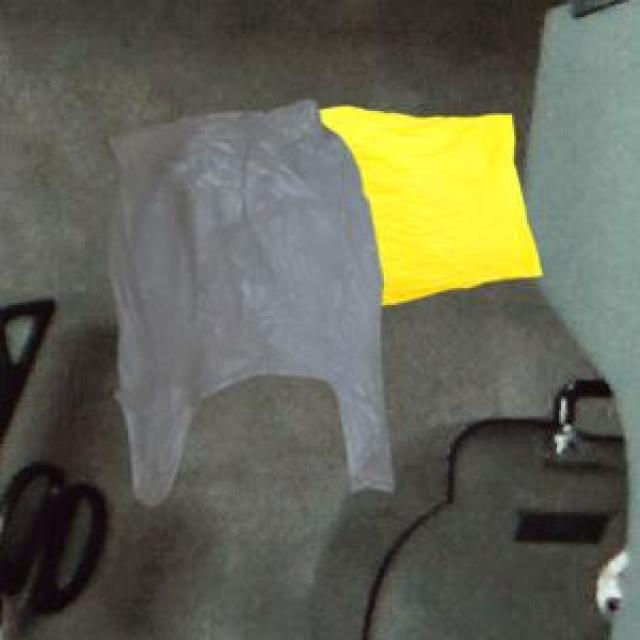plastic: (65, 91, 583, 524)
